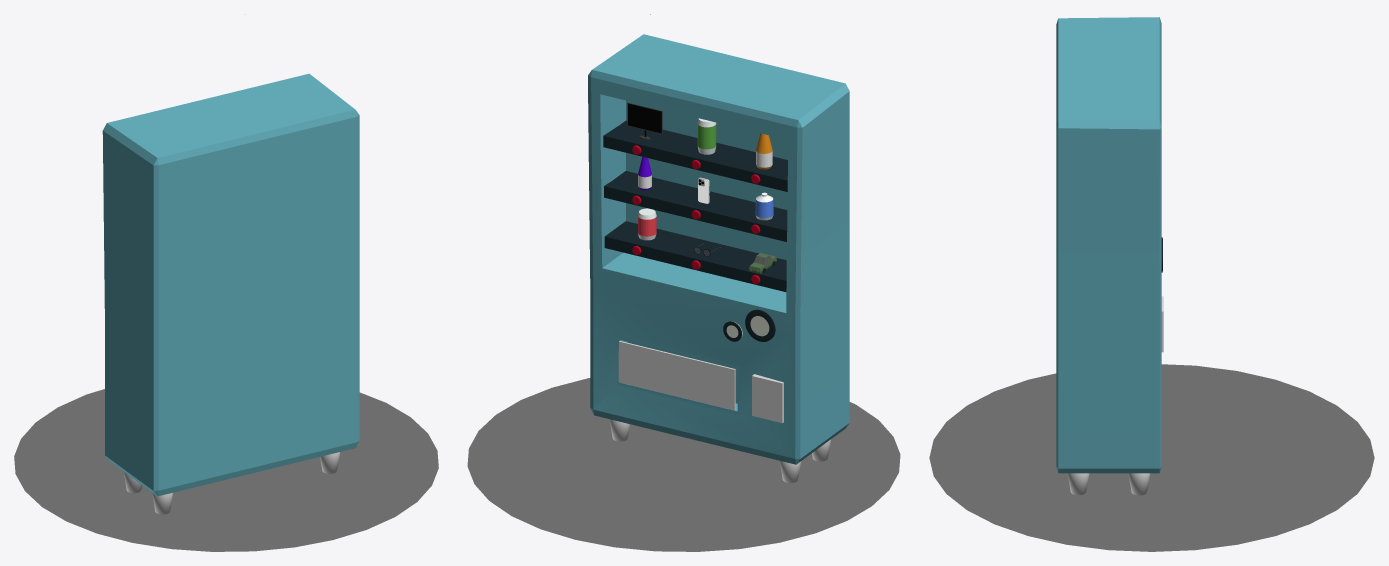
Rendered from pangi.glb.
3 renders of one model, left to right at view 1: azimuth 30°, elevation 25°; view 2: azimuth 150°, elevation 25°; view 3: azimuth 270°, elevation 25°, orthographic. The views are drawn at different scales.
Parts seen in each view (by area): view 1: machine, Circle; view 2: machine, Circle, 선반, Cube, panel, monitor, panel.001, Cylinder.001, Cylinder.014, Cylinder.005, Cylinder.006; view 3: Circle, machine.
Part boxes in pixels (x1,y1,x2,y2): machine: (102, 73, 359, 496); Circle: (14, 389, 438, 551); machine: (588, 34, 849, 464); Circle: (467, 378, 900, 551); 선반: (603, 120, 787, 291); Cube: (618, 341, 735, 410); panel: (752, 374, 783, 423); monitor: (627, 102, 662, 134); panel.001: (745, 309, 775, 341); Cylinder.001: (632, 145, 760, 284); Cylinder.014: (697, 118, 716, 154); Cylinder.005: (638, 208, 656, 240); Cylinder.006: (756, 133, 772, 169); Circle: (929, 364, 1374, 551); machine: (1056, 17, 1161, 473).
Bounding box in the file's own units: 8.43 × 9.55 × 8.43.
